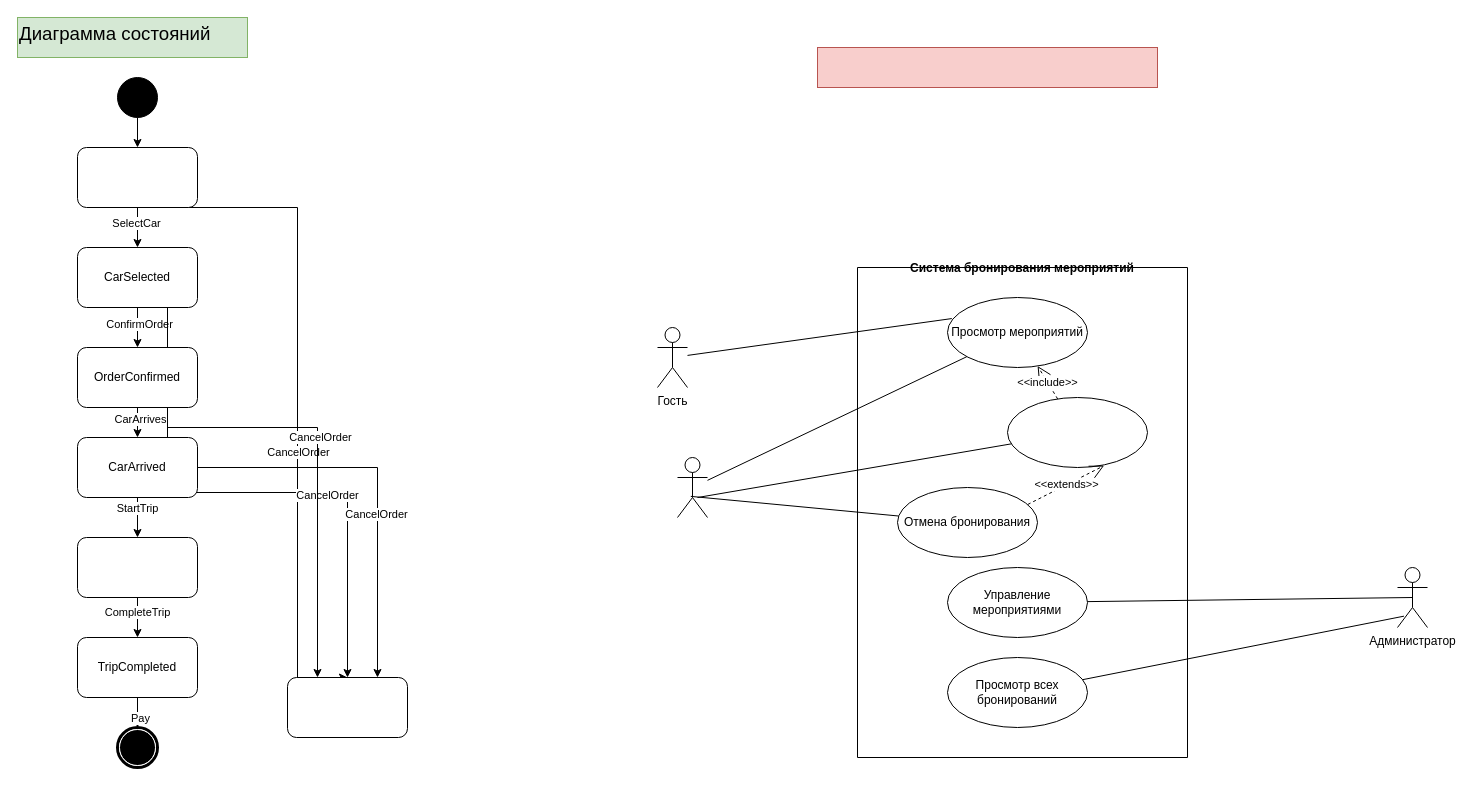
Some shapes in this 1473 by 785 pixel diagram are drawn without their labels. Each missing label, with the centre of its shape:
"Idle" goes at point (137, 177).
"InTrip" goes at point (137, 567).
"TripCancelled" goes at point (347, 707).
"Бронирование мероприятия" goes at point (1077, 432).
"Диаграмма вариантов использования" goes at point (987, 67).
"Зарегистрированный пользователь" goes at point (692, 487).
